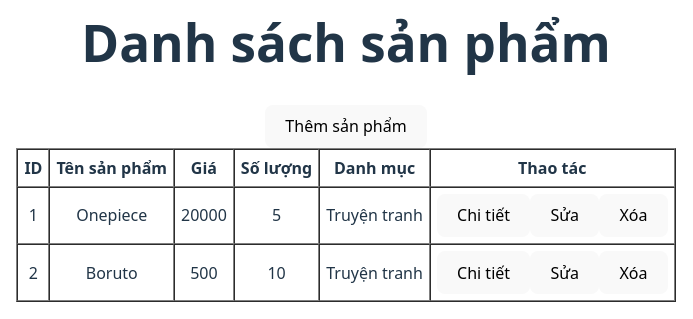
Product  Mock Tests › TC5: Xóa sản phẩm thành công
expect the text "Onepiece" is shown: met, box [50, 187, 174, 244]
expect the text "Boruto" is shown: met, box [50, 244, 174, 301]
Click the button with test id "product-Delete1".
click(633, 216)  # box [599, 194, 668, 237]
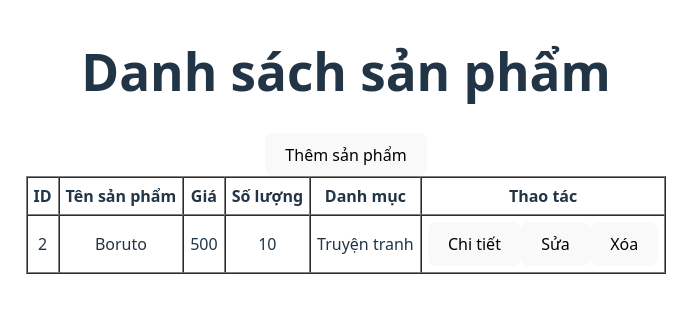
expect the text "Boruto" is shown: met, box [59, 216, 183, 273]
expect the text "Onepiece" is gone: met
